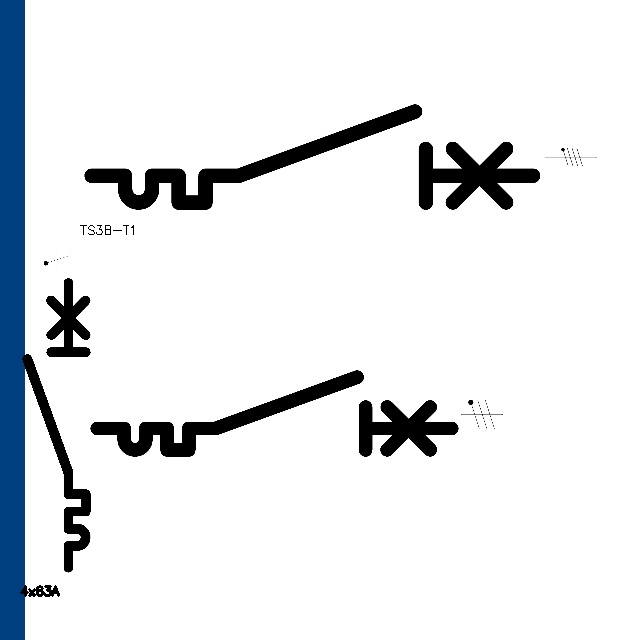interruptor_termomagnetico: (80, 100, 544, 214), (88, 368, 460, 459), (20, 275, 93, 574)
